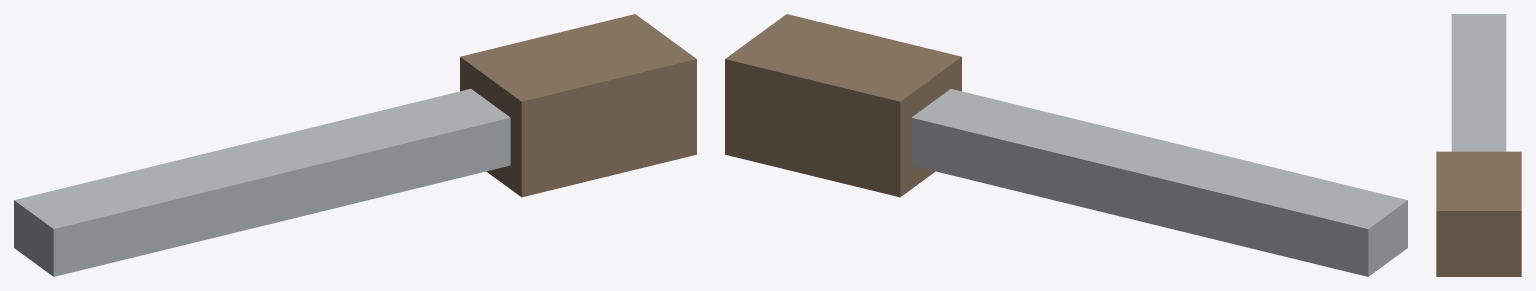
The model's file is wrench_lod0.glb.
3 views of the same model, side by side, from view 1: azimuth 30°, elevation 25°; view 2: azimuth 150°, elevation 25°; view 3: azimuth 270°, elevation 25° (orthographic). The views are drawn at different scales.
Parts seen in each view (by area): view 1: shaft, grip; view 2: shaft, grip; view 3: grip, shaft.
Part boxes in pixels (bbox=[...]): shaft: bbox=[14, 89, 510, 276]; grip: bbox=[460, 14, 696, 197]; shaft: bbox=[911, 89, 1407, 276]; grip: bbox=[725, 14, 961, 197]; grip: bbox=[1436, 151, 1521, 276]; shaft: bbox=[1451, 14, 1506, 151].
Size of the model in its own units: 1.66 by 0.24 by 0.28.
